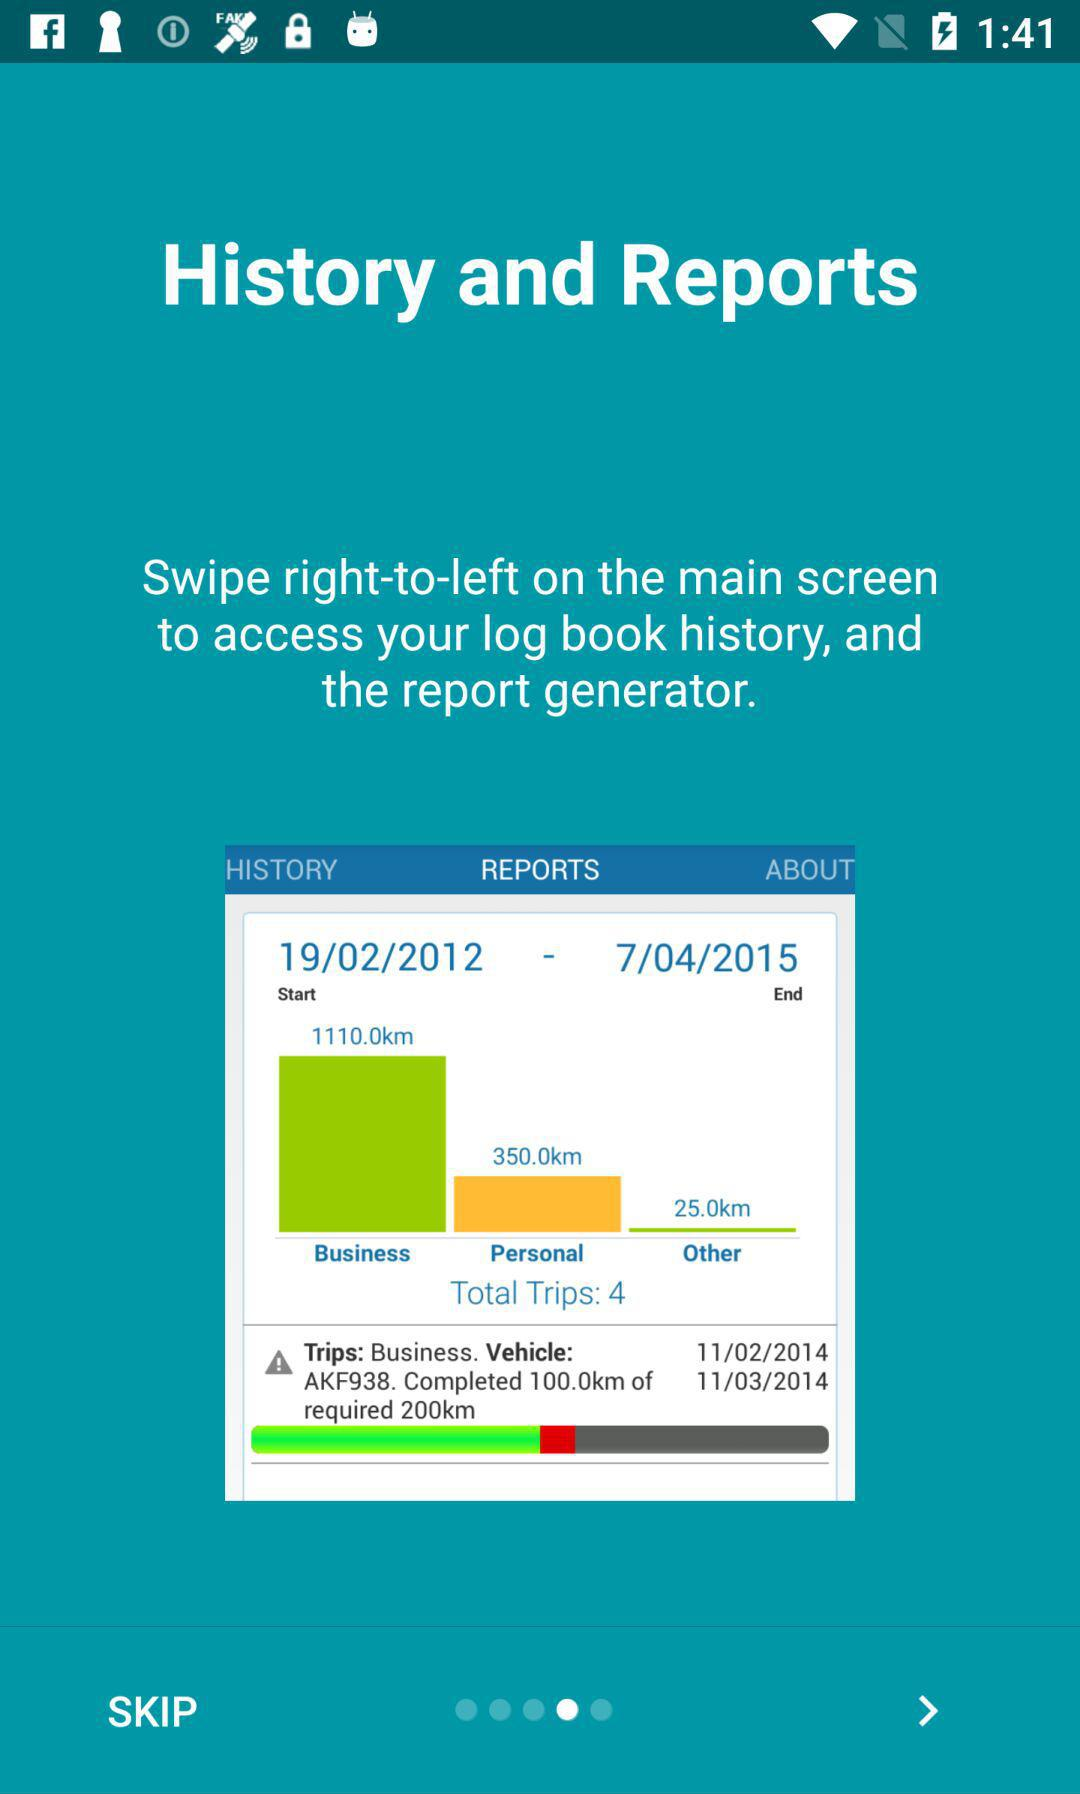Icon: (917, 1695, 939, 1727)
Image: (225, 844, 857, 1502)
PageIndicator: (454, 1697, 615, 1724)
Text: (143, 557, 940, 720), (165, 241, 919, 325), (109, 1695, 199, 1729)
UpperTaskBar: (1, 1, 1080, 64)
